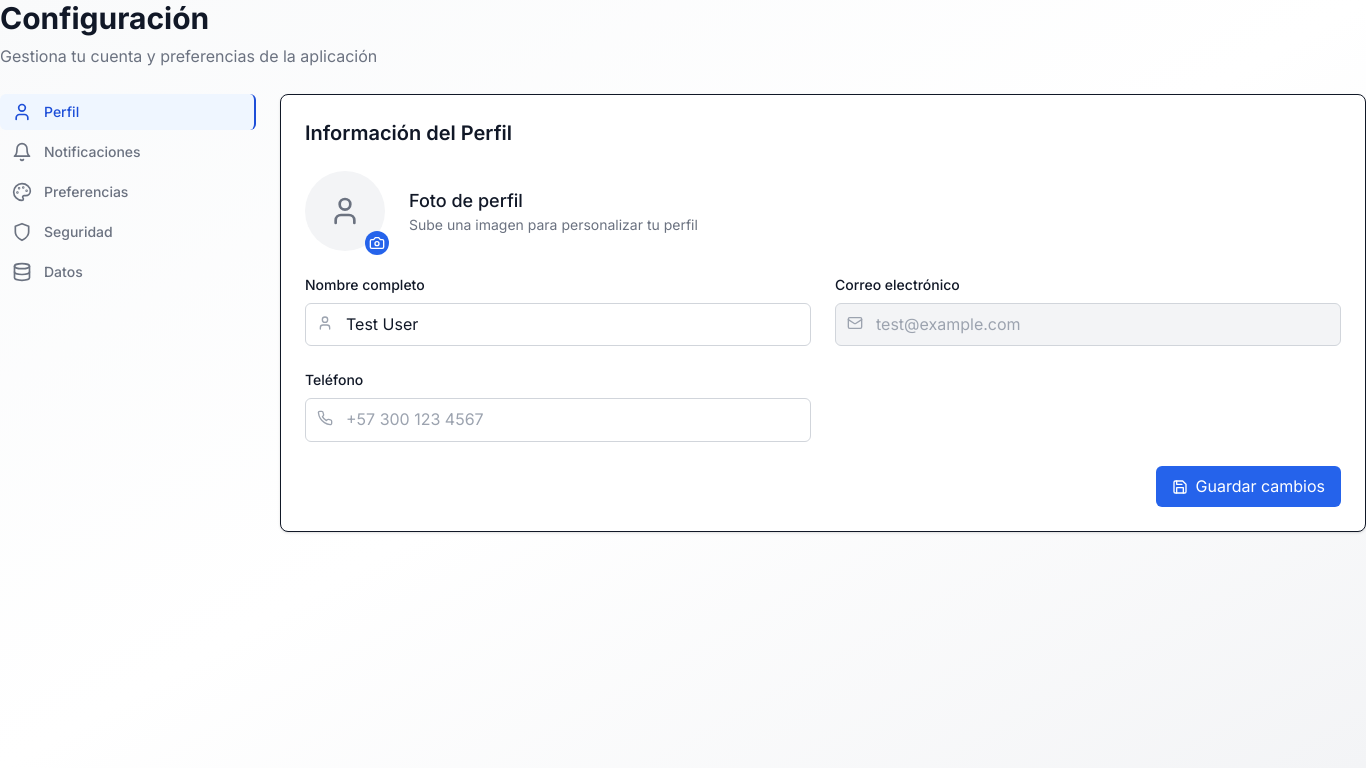
it: SettingsPage › debe mostrar las opciones de seguridad
# Ir a la pestaña de Seguridad
Step 1. Click the button "Seguridad" → [128, 232], box x1=0 y1=214 x2=256 y2=250
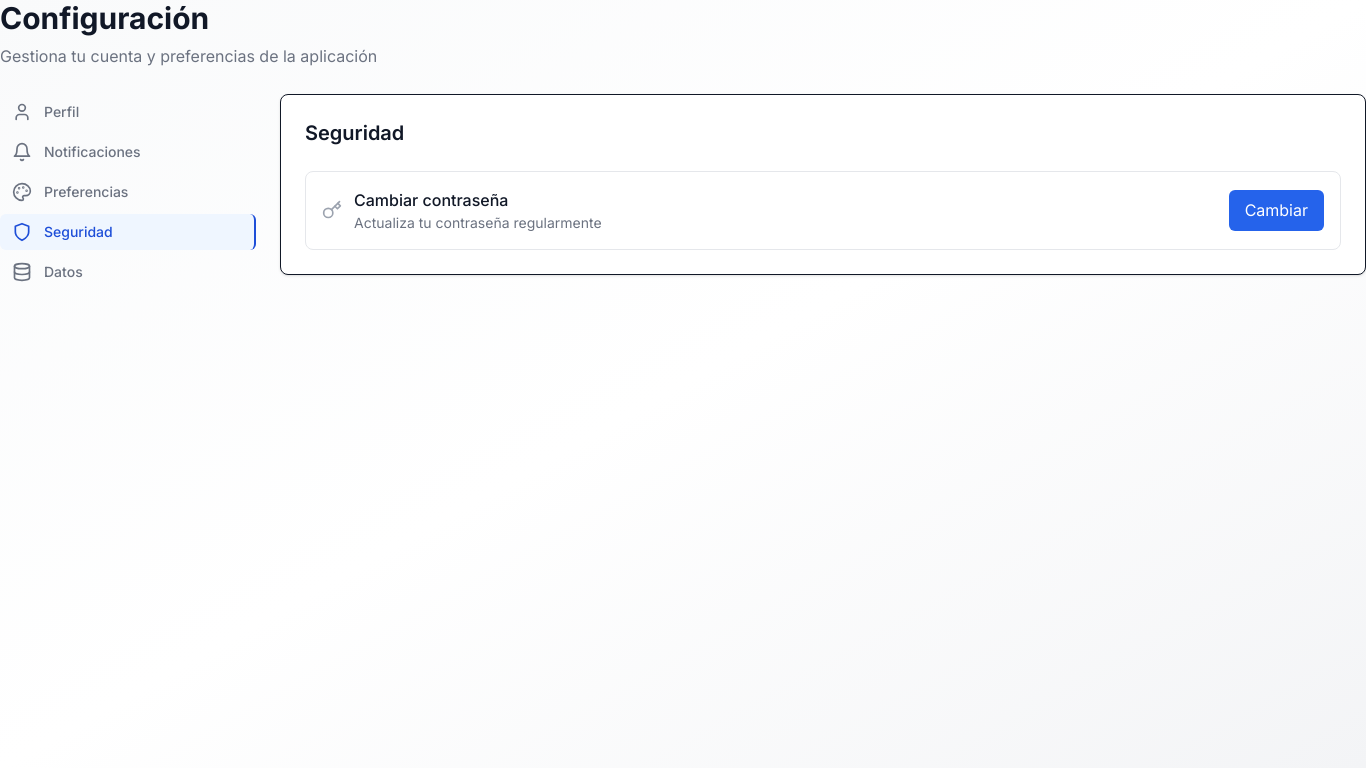
Expected: the heading "Cambiar contraseña" is shown, x1=354 y1=190 x2=508 y2=210
Expected: the text "Actualiza tu contraseña regularmente" is shown, x1=354 y1=213 x2=602 y2=233
Expected: the button "Cambiar" is shown, x1=1229 y1=190 x2=1324 y2=231
